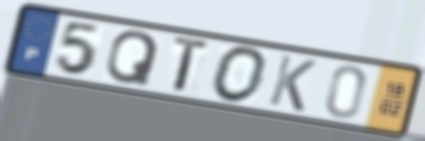0: (322, 64, 369, 121)
5: (53, 19, 106, 76)
K: (266, 53, 320, 115)
O: (209, 44, 272, 106)
Q: (103, 29, 162, 88)
T: (170, 33, 213, 95)
